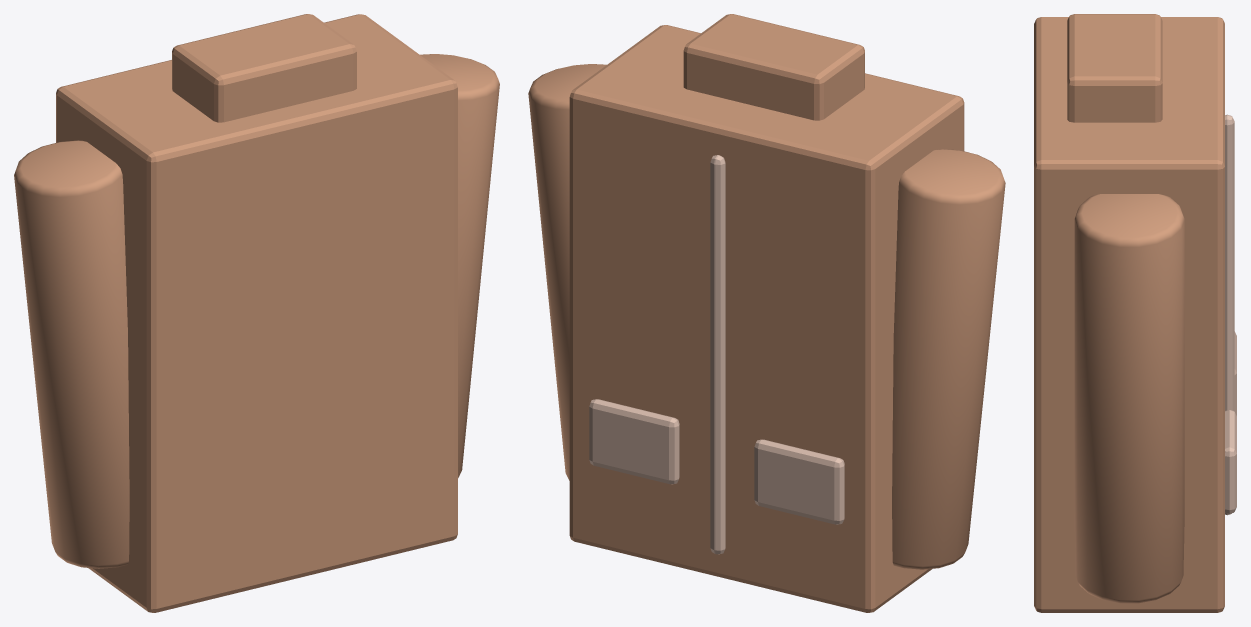
The model's file is VM-NIN-8830.glb.
3 renders of one model, left to right at view 1: azimuth 30°, elevation 25°; view 2: azimuth 150°, elevation 25°; view 3: azimuth 270°, elevation 25°, orthographic.
Visible parts, largest first — view 1: Chaqueta Utility Terra Kids; view 2: Chaqueta Utility Terra Kids; view 3: Chaqueta Utility Terra Kids.
Part boxes in pixels (box(x1,y1,x2,y2)): Chaqueta Utility Terra Kids: box(14, 14, 499, 612); Chaqueta Utility Terra Kids: box(528, 14, 1005, 612); Chaqueta Utility Terra Kids: box(1034, 14, 1236, 612).
Bounding box in the file's own units: 0.4363 × 0.448 × 0.166.
